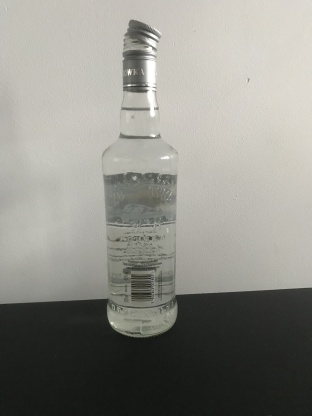nakretka: (120, 17, 163, 93)
